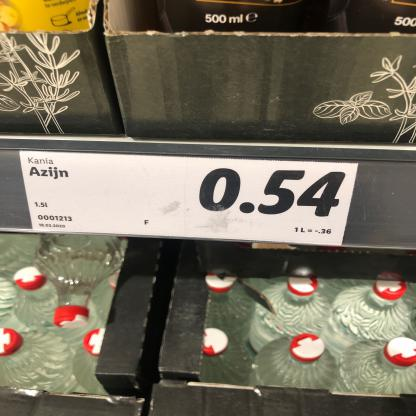prtg: (20, 151, 360, 247)
